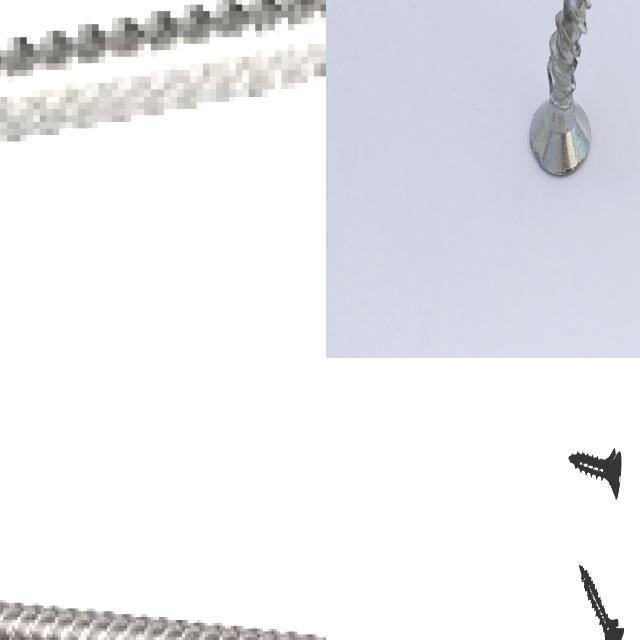Screw: (0, 0, 326, 145), (530, 0, 591, 175), (579, 563, 625, 640), (569, 446, 622, 498)
